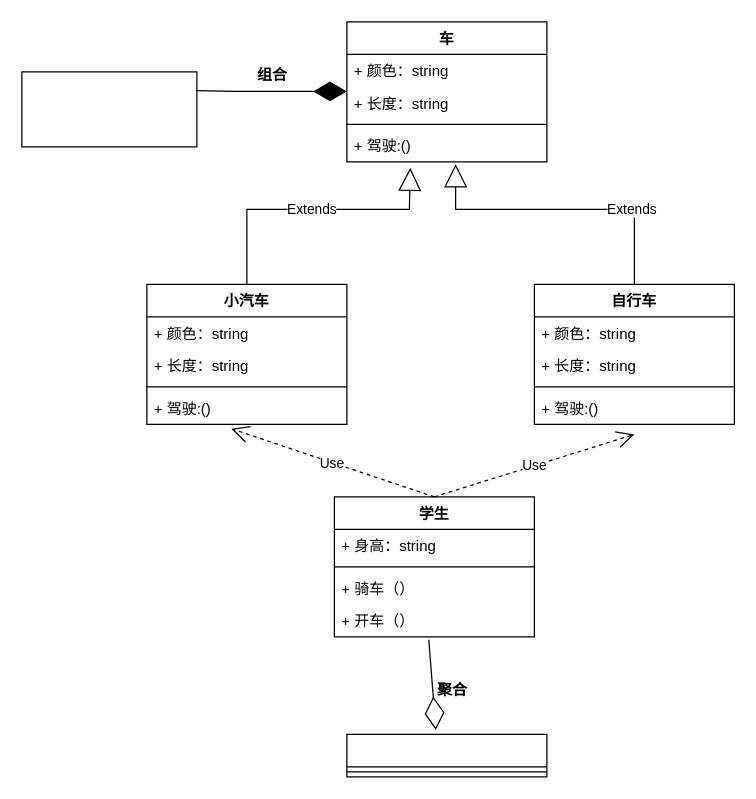
This 756x799 diagram has some shape labels left out. The shapes that lost their labels are listed below. From the top down, each one's centre as x and y in pixels, then its label:
At (109,109): "发动机".
At (446,755): "班级".
